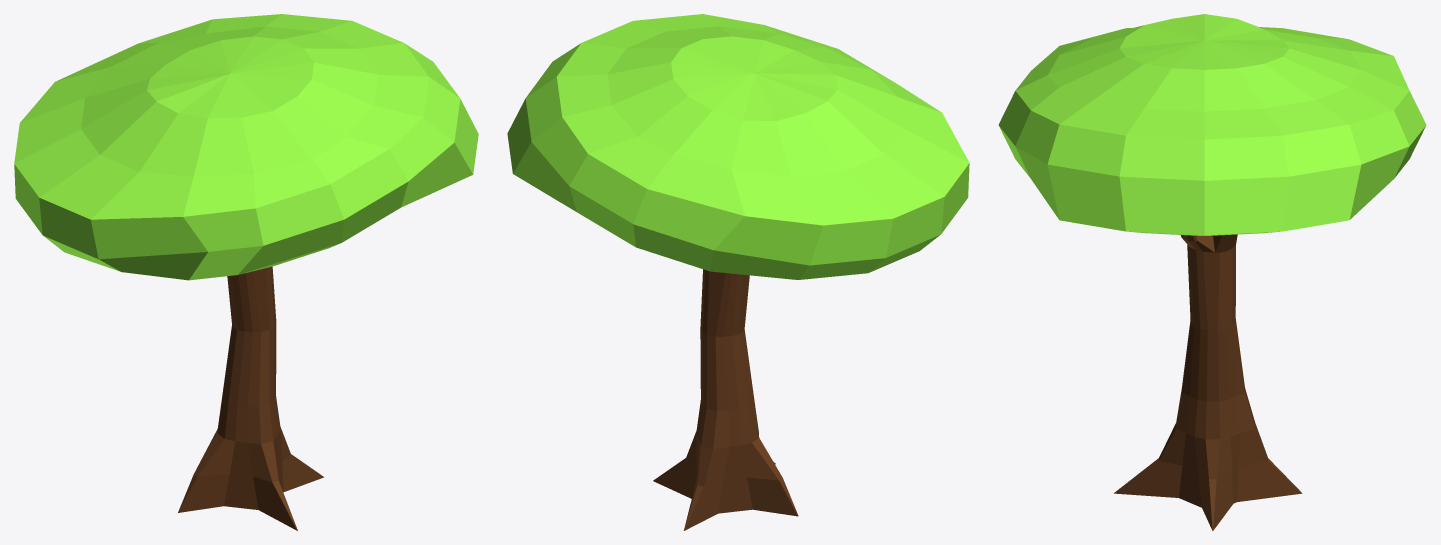
The model's file is TreePractice.fbx.
3 views of the same model, side by side, from view 1: azimuth 30°, elevation 25°; view 2: azimuth 150°, elevation 25°; view 3: azimuth 270°, elevation 25° (orthographic). The views are drawn at different scales.
Parts seen in each view (by area): view 1: Foliage, Trunk; view 2: Foliage, Trunk; view 3: Foliage, Trunk.
Boxes of the visible parts, x1=… form: Foliage: x1=14, y1=14, x2=478, y2=280; Trunk: x1=178, y1=266, x2=323, y2=530; Foliage: x1=507, y1=14, x2=969, y2=279; Trunk: x1=653, y1=269, x2=798, y2=530; Foliage: x1=998, y1=14, x2=1426, y2=235; Trunk: x1=1114, y1=234, x2=1302, y2=530.
Bounding box in the file's own units: 1312 × 1324 × 1145.
